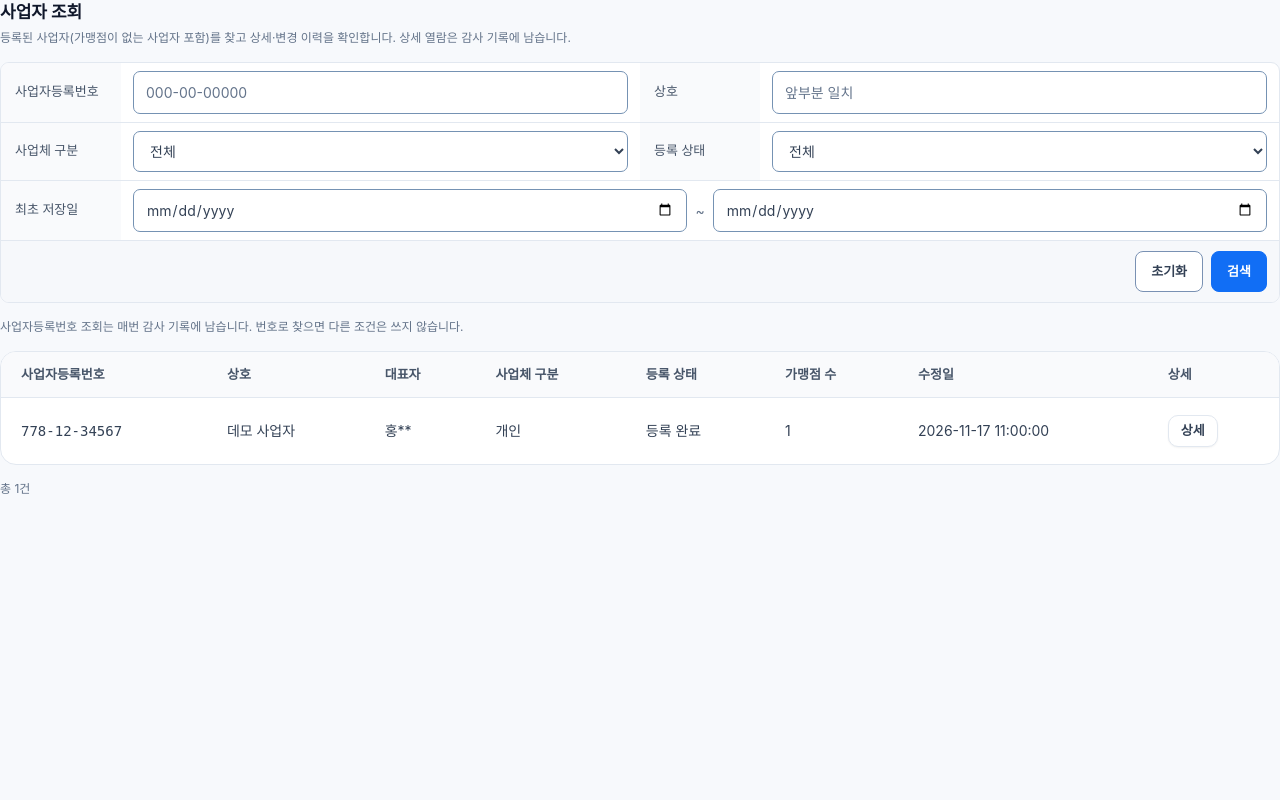
Test: BusinessesScreen — 상세·이력 (BIZ-4-3·BIZ-4-5, §8.2·§9) › detail shows PII in plain text (D-BIZ-006 ②), the number raw (hyphenated — D-BIZ-007), no "미검증", the REGISTERED meaning line; OPERATOR + REGISTERED → "이 사업자로 가맹
The image size is (1280, 800).
Later steps or results of the test are not shown.
Click the button with aria-label "데모 사업자 상세".
click(1193, 431)  # box x1=1168 y1=415 x2=1218 y2=447
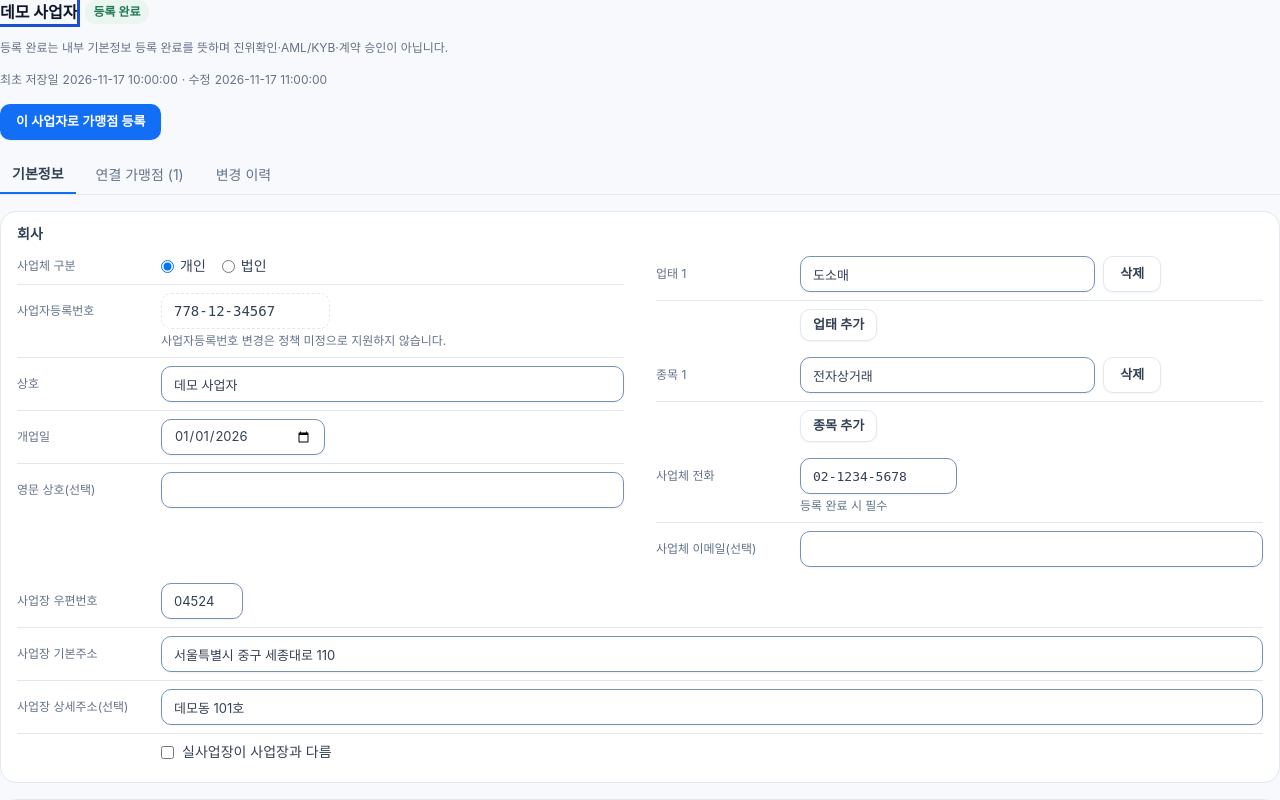
Result: the element named "사업자 상세" shows "등록 완료는 내부 기본정보 등록 완료를 뜻하며 진위확인·AML/KYB·계약 승인이 아닙니다." at x1=0 y1=40 x2=448 y2=55
